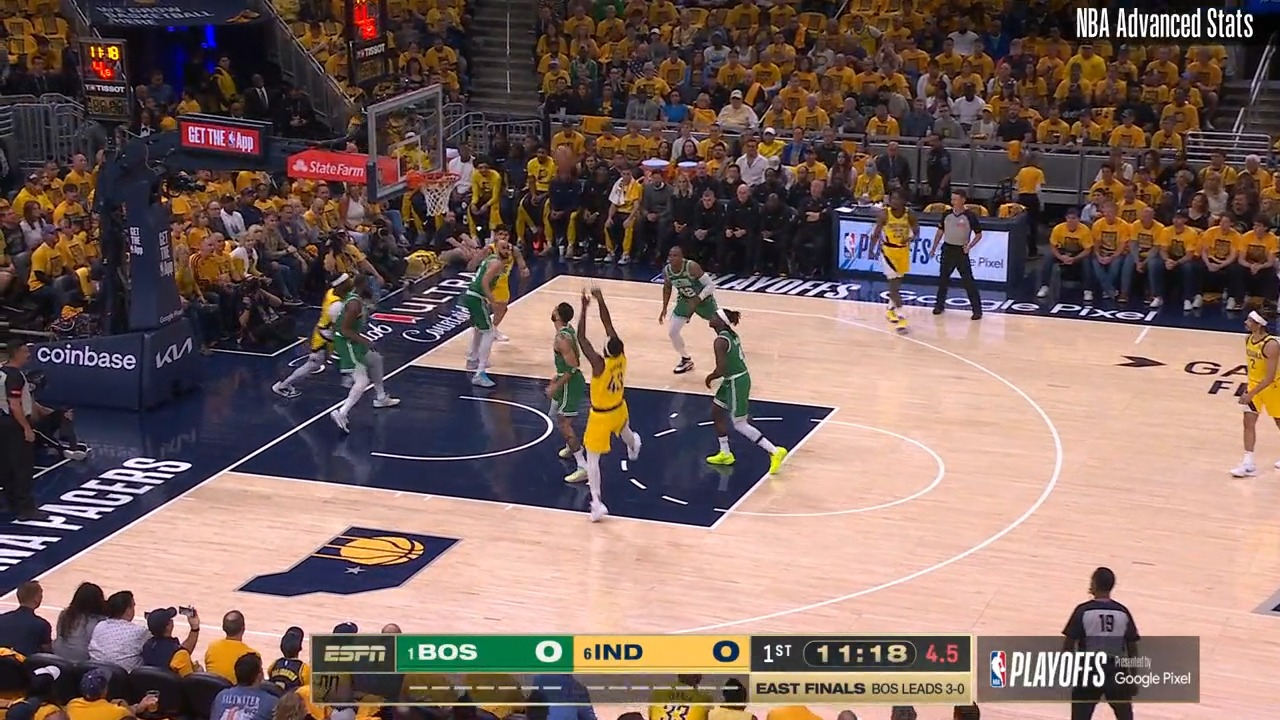basketball: (552, 143, 575, 168)
